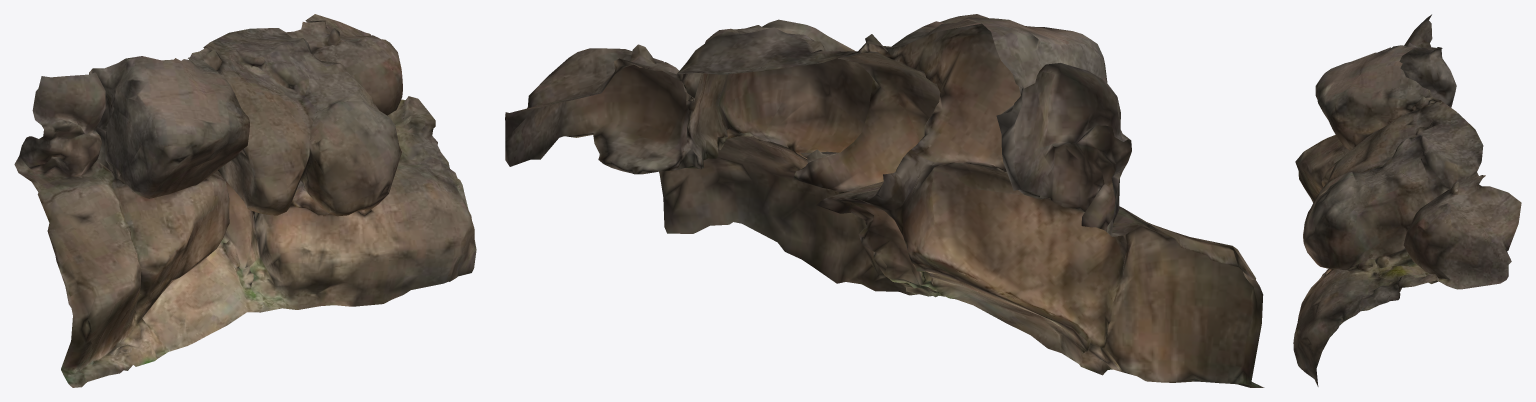
The model's file is cliffA.glb.
The picture shows the model from 3 angles, left to right: view 1: azimuth 30°, elevation 25°; view 2: azimuth 150°, elevation 25°; view 3: azimuth 270°, elevation 25°; orthographic projection. The views are drawn at different scales.
Parts seen in each view (by area): view 1: drone_rock_01; view 2: drone_rock_01; view 3: drone_rock_01.
Part boxes in pixels (<box>): drone_rock_01: <box>14,14,476,387</box>; drone_rock_01: <box>505,14,1264,387</box>; drone_rock_01: <box>1293,14,1521,386</box>.
Bounding box in the file's own units: 8.28 × 4.96 × 4.38.
Materials: 1 (1 with a texture image).
